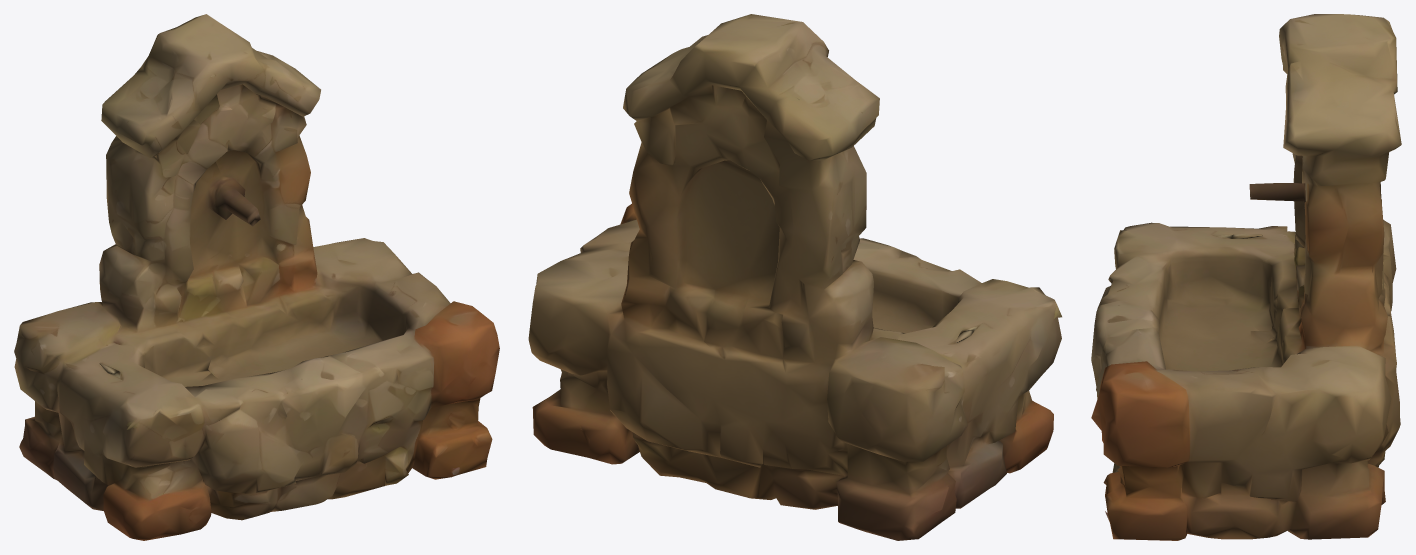
The model's file is tripo_stone_fountain.glb.
3 renders of one model, left to right at view 1: azimuth 30°, elevation 25°; view 2: azimuth 150°, elevation 25°; view 3: azimuth 270°, elevation 25°, orthographic. The views are drawn at different scales.
Visible parts, largest first — view 1: stone_fountain; view 2: stone_fountain; view 3: stone_fountain.
Boxes of the visible parts, x1,y1,x2,y2 form: stone_fountain: (14,14,499,540); stone_fountain: (528,14,1061,540); stone_fountain: (1091,14,1401,540).
Bounding box in the file's own units: 2.16 × 2.2 × 1.46.
Materials: 1 (1 with a texture image).
